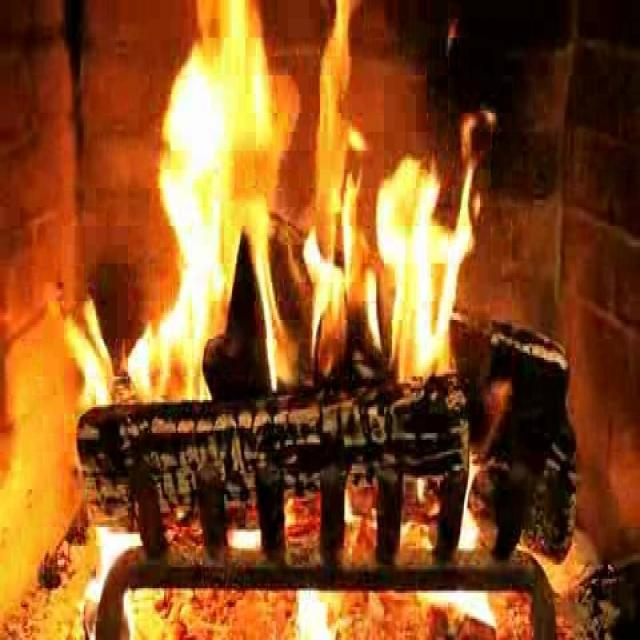Fire: (149, 15, 455, 400)
